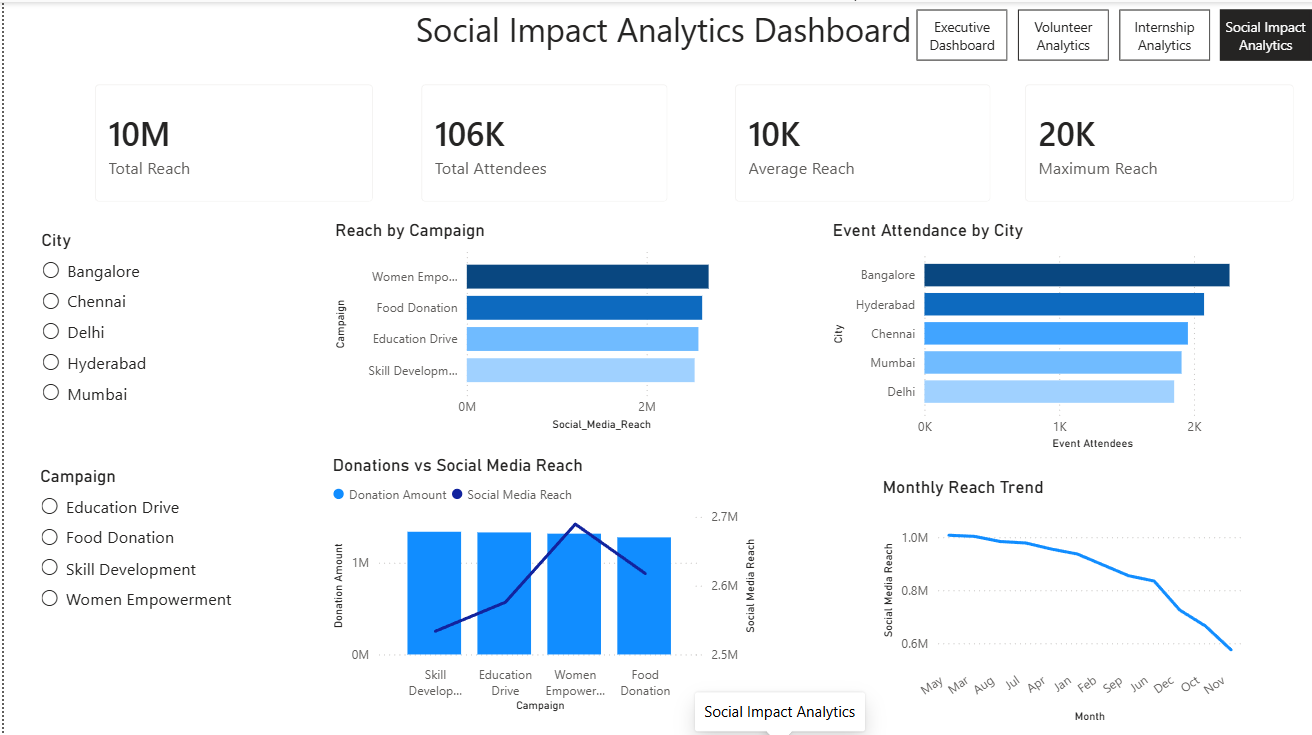

Layout of this report page (visuals, bound fields, positions):
{"tool":"powerbi","page":{"name":"Social Impact Analytics","canvas":[1280,720],"ordinal":3},"visuals":[{"type":"textbox","box":[9.3,0,1270.7,63.1],"z":0},{"type":"cardVisual","fields":{"Data":["Sheet1.Total Reach"]},"box":[72.7,63.1,306,149.6],"z":1},{"type":"cardVisual","fields":{"Data":["Sheet1.Total Attendees"]},"box":[391.1,63.1,275.8,149.6],"z":2},{"type":"cardVisual","fields":{"Data":["Sheet1.Average Reach"]},"box":[698.5,63.1,284,149.6],"z":3},{"type":"cardVisual","fields":{"Data":["Sheet1.Maximum Reach"]},"box":[982.2,63.1,297.8,149.6],"z":4},{"type":"clusteredBarChart","title":"Reach by Campaign","fields":{"Category":["Sheet1.Campaign"],"Y":["Sum(Sheet1.Social_Media_Reach)"]},"box":[319.7,212.7,411.7,211.3],"z":5},{"type":"clusteredBarChart","title":"Event Attendance by City","fields":{"Category":["Sheet1.City"],"Y":["Sum(Sheet1.Internship_Applications)"]},"box":[805.5,212.7,436.4,230.5],"z":6},{"type":"lineClusteredColumnComboChart","title":"Donations vs Social Media Reach","fields":{"Category":["Sheet1.Campaign"],"Y":["Sum(Sheet1.Donation_Amount)"],"Y2":["Sum(Sheet1.Social_Media_Reach)"]},"box":[317,443.2,425.4,256.6],"z":7},{"type":"lineChart","title":"Monthly Reach Trend","fields":{"Category":["Sheet1.Month"],"Y":["Sum(Sheet1.Social_Media_Reach)"]},"box":[854.9,465.2,360.9,245.6],"z":8},{"type":"listSlicer","fields":{"Values":["Sheet1.City"]},"box":[31.6,222.3,212.7,201.7],"z":9},{"type":"listSlicer","fields":{"Values":["Sheet1.Campaign"]},"box":[30.2,454.2,214.1,197.6],"z":10},{"type":"pageNavigator","box":[892.7,7.3,387.6,50.1],"z":11}]}

Visuals, with their boxes in screenshot pixels (x1, y1, x2, y2), scaled from the page's 1280x720 canvas onto the 1312x735 screenshot:
textbox: [x1=10, y1=0, x2=1311, y2=64]
cardVisual - Sheet1.Total Reach: [x1=75, y1=64, x2=388, y2=217]
cardVisual - Sheet1.Total Attendees: [x1=401, y1=64, x2=684, y2=217]
cardVisual - Sheet1.Average Reach: [x1=716, y1=64, x2=1007, y2=217]
cardVisual - Sheet1.Maximum Reach: [x1=1007, y1=64, x2=1311, y2=217]
"Reach by Campaign" clusteredBarChart: [x1=328, y1=217, x2=750, y2=433]
"Event Attendance by City" clusteredBarChart: [x1=826, y1=217, x2=1273, y2=452]
"Donations vs Social Media Reach" lineClusteredColumnComboChart: [x1=325, y1=452, x2=761, y2=714]
"Monthly Reach Trend" lineChart: [x1=876, y1=475, x2=1246, y2=726]
listSlicer - Sheet1.City: [x1=32, y1=227, x2=250, y2=433]
listSlicer - Sheet1.Campaign: [x1=31, y1=464, x2=250, y2=665]
pageNavigator: [x1=915, y1=7, x2=1311, y2=59]
